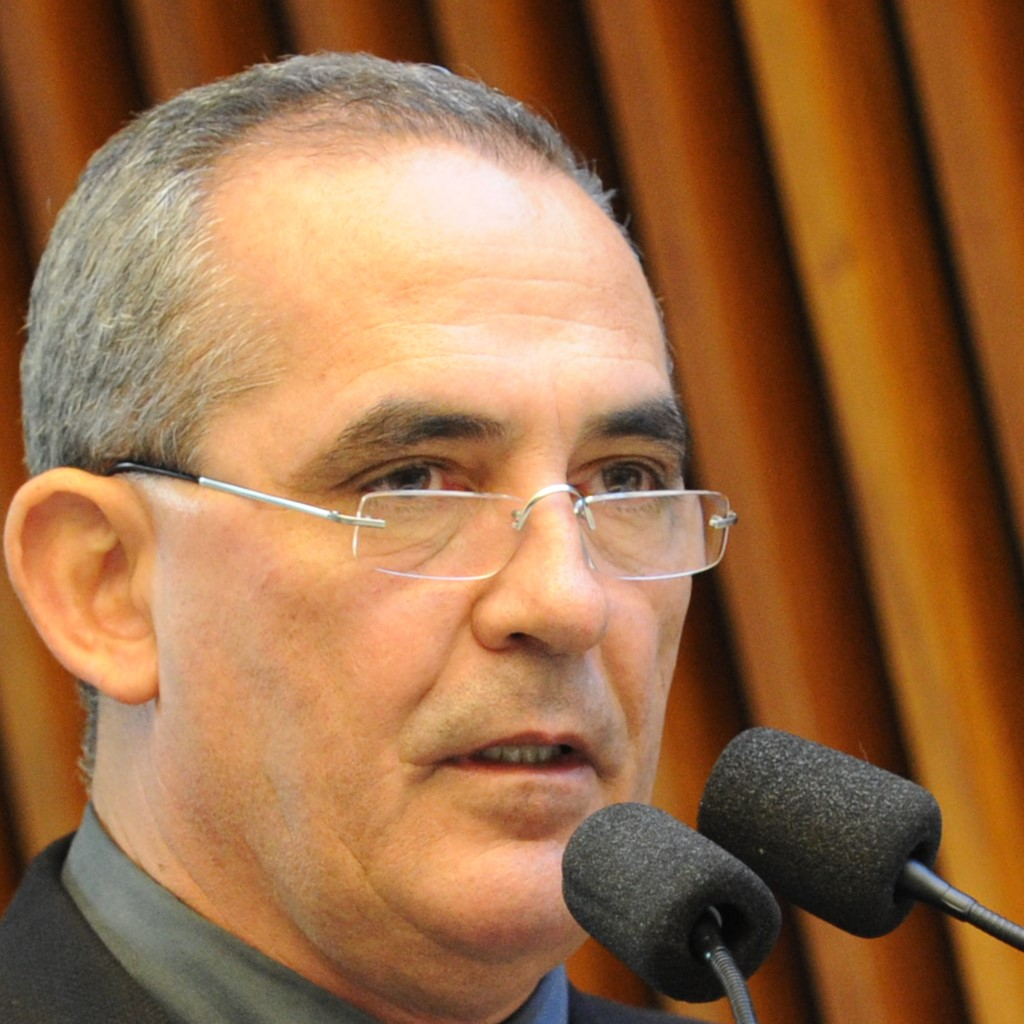sin_mascara: (80, 118, 694, 1000)
